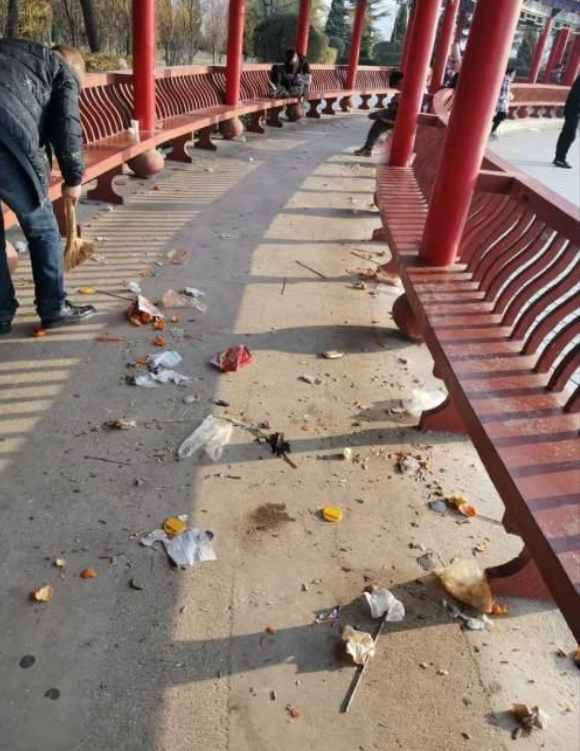garbage: (315, 581, 422, 716), (182, 407, 270, 478), (419, 561, 514, 626), (54, 189, 115, 277), (144, 519, 215, 577), (130, 346, 209, 398), (414, 489, 484, 538), (154, 274, 205, 324), (264, 422, 305, 477), (504, 700, 549, 741), (389, 439, 430, 480), (204, 344, 254, 377), (314, 498, 364, 531), (128, 287, 162, 333), (160, 242, 199, 274), (70, 272, 105, 298), (108, 413, 138, 442), (25, 326, 54, 353), (332, 442, 366, 463), (315, 341, 344, 365), (133, 181, 175, 194), (26, 587, 53, 604), (72, 565, 97, 581), (48, 555, 69, 574), (233, 152, 258, 165), (199, 160, 217, 178)
